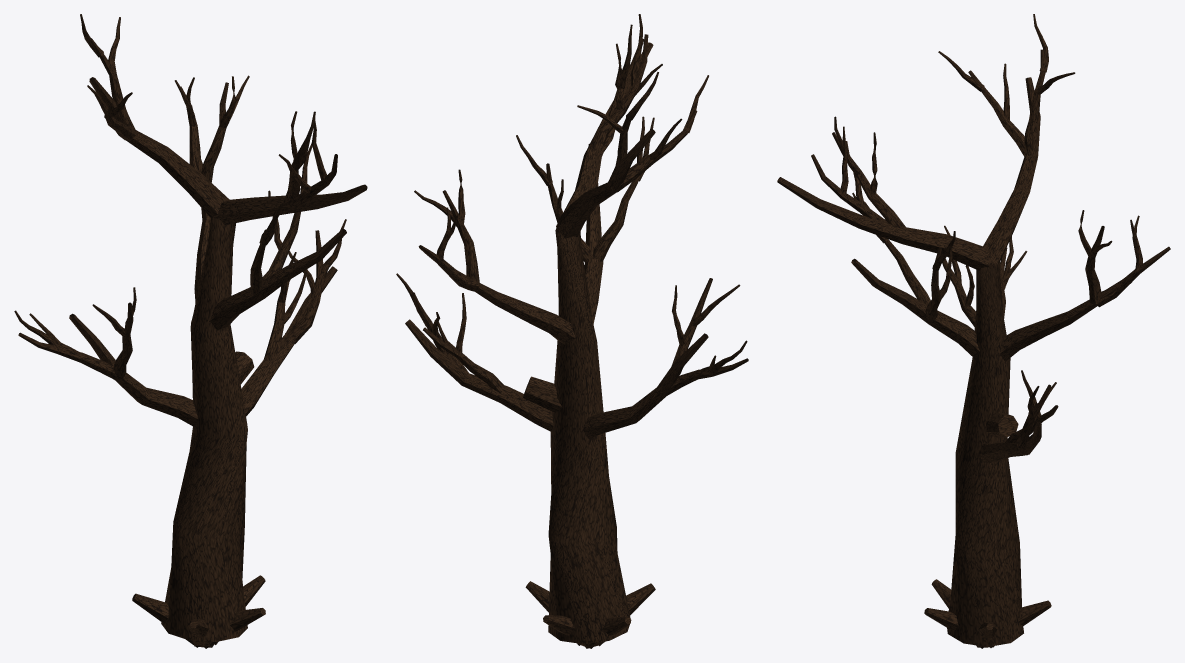
File: dead_tree.gltf
3 renders of one model, left to right at view 1: azimuth 30°, elevation 25°; view 2: azimuth 150°, elevation 25°; view 3: azimuth 270°, elevation 25°, orthographic. The views are drawn at different scales.
Parts seen in each view (by area): view 1: DeadTreeMesh; view 2: DeadTreeMesh; view 3: DeadTreeMesh.
Part boxes in pixels (bbox=[...]): DeadTreeMesh: bbox=[14, 14, 367, 648]; DeadTreeMesh: bbox=[396, 14, 748, 648]; DeadTreeMesh: bbox=[777, 14, 1170, 648].
Bounding box in the file's own units: 2.95 × 5.15 × 3.13.
Materials: 1 (1 with a texture image).
